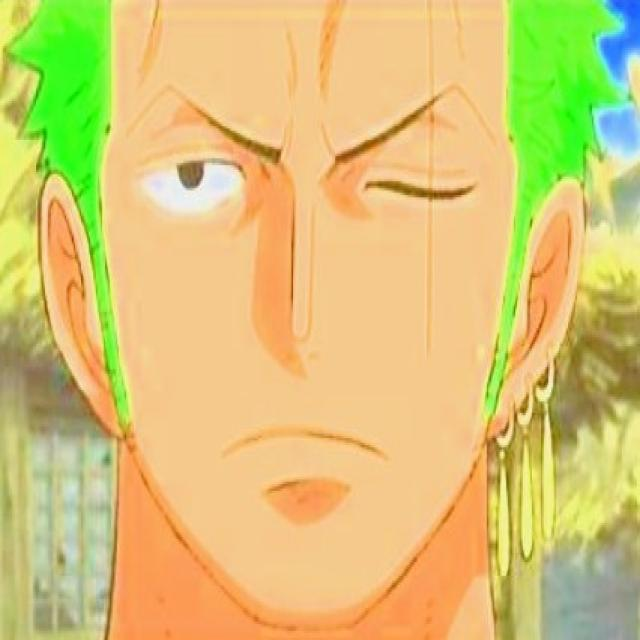Zoro: (5, 0, 628, 640)
